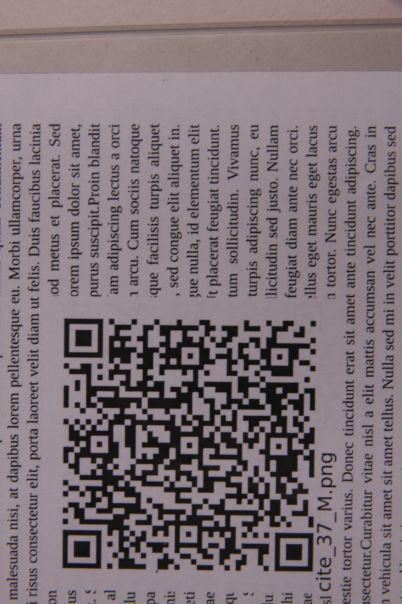Finder pattern: (59, 313, 108, 363), (56, 527, 107, 575), (271, 528, 319, 578)
